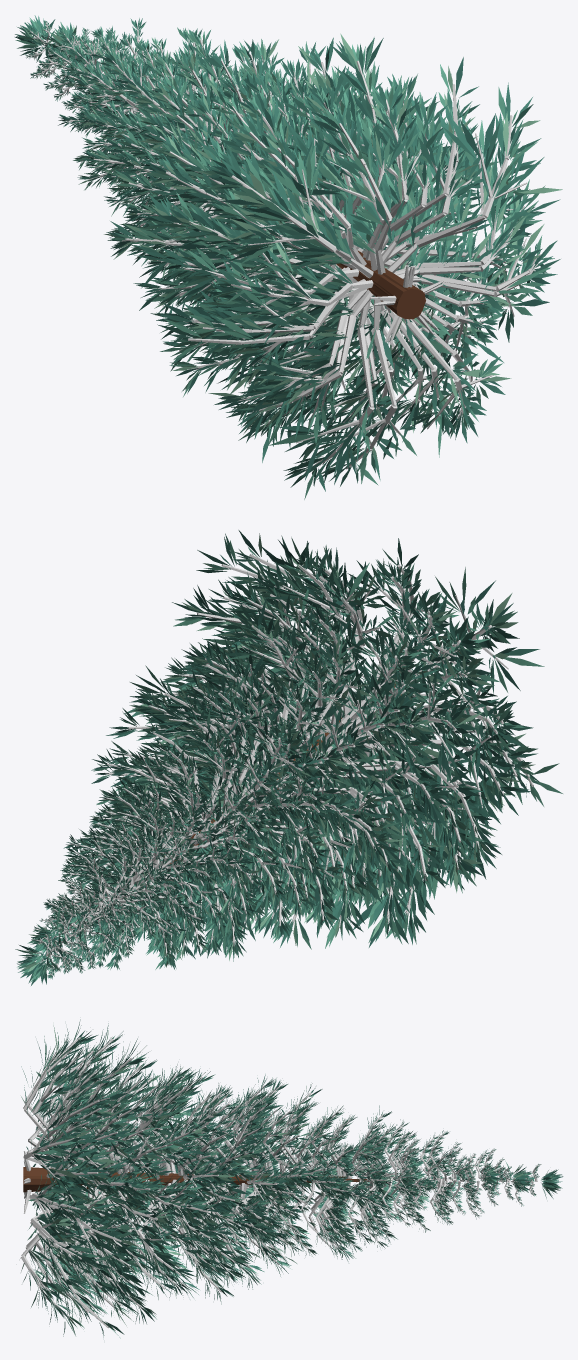
File: Tree_Fir.fbx
The picture shows the model from 3 angles, top to bottom: view 1: azimuth 30°, elevation 25°; view 2: azimuth 150°, elevation 25°; view 3: azimuth 270°, elevation 25°; orthographic projection. The views are drawn at different scales.
Parts seen in each view (by area): view 1: Tree_Fir_LOD0_Foliage, Tree_Fir_LOD1_Foliage, Tree_Fir_LOD0_Branches, Tree_Fir_LOD1_Branches, Tree_Fir_LOD2_Foliage, Tree_Fir_LOD2_Branches, Tree_Fir_LOD0_Wood; view 2: Tree_Fir_LOD0_Foliage, Tree_Fir_LOD1_Foliage, Tree_Fir_LOD0_Branches, Tree_Fir_LOD1_Branches, Tree_Fir_LOD2_Foliage, Tree_Fir_LOD2_Branches; view 3: Tree_Fir_LOD0_Foliage, Tree_Fir_LOD1_Foliage, Tree_Fir_LOD0_Branches, Tree_Fir_LOD1_Branches, Tree_Fir_LOD2_Branches, Tree_Fir_LOD2_Foliage, Tree_Fir_LOD1_Wood, Tree_Fir_LOD0_Wood.
Boxes of the visible parts, x1,y1,x2,y2 form: Tree_Fir_LOD0_Foliage: (15,15,560,499); Tree_Fir_LOD1_Foliage: (43,22,562,486); Tree_Fir_LOD0_Branches: (27,22,537,471); Tree_Fir_LOD1_Branches: (55,35,527,469); Tree_Fir_LOD2_Foliage: (64,35,557,447); Tree_Fir_LOD2_Branches: (74,39,540,420); Tree_Fir_LOD0_Wood: (336,250,425,319); Tree_Fir_LOD0_Foliage: (15,537,544,985); Tree_Fir_LOD1_Foliage: (27,533,525,960); Tree_Fir_LOD0_Branches: (33,564,517,975); Tree_Fir_LOD1_Branches: (42,558,503,952); Tree_Fir_LOD2_Foliage: (49,530,562,950); Tree_Fir_LOD2_Branches: (64,554,533,935); Tree_Fir_LOD0_Foliage: (20,1019,563,1336); Tree_Fir_LOD1_Foliage: (28,1023,533,1319); Tree_Fir_LOD0_Branches: (21,1037,538,1320); Tree_Fir_LOD1_Branches: (23,1039,510,1308); Tree_Fir_LOD2_Branches: (23,1049,481,1327); Tree_Fir_LOD2_Foliage: (24,1034,504,1338); Tree_Fir_LOD1_Wood: (23,1170,367,1190); Tree_Fir_LOD0_Wood: (23,1167,386,1192).
Size of the model in its own units: 903 by 869 by 1458.
